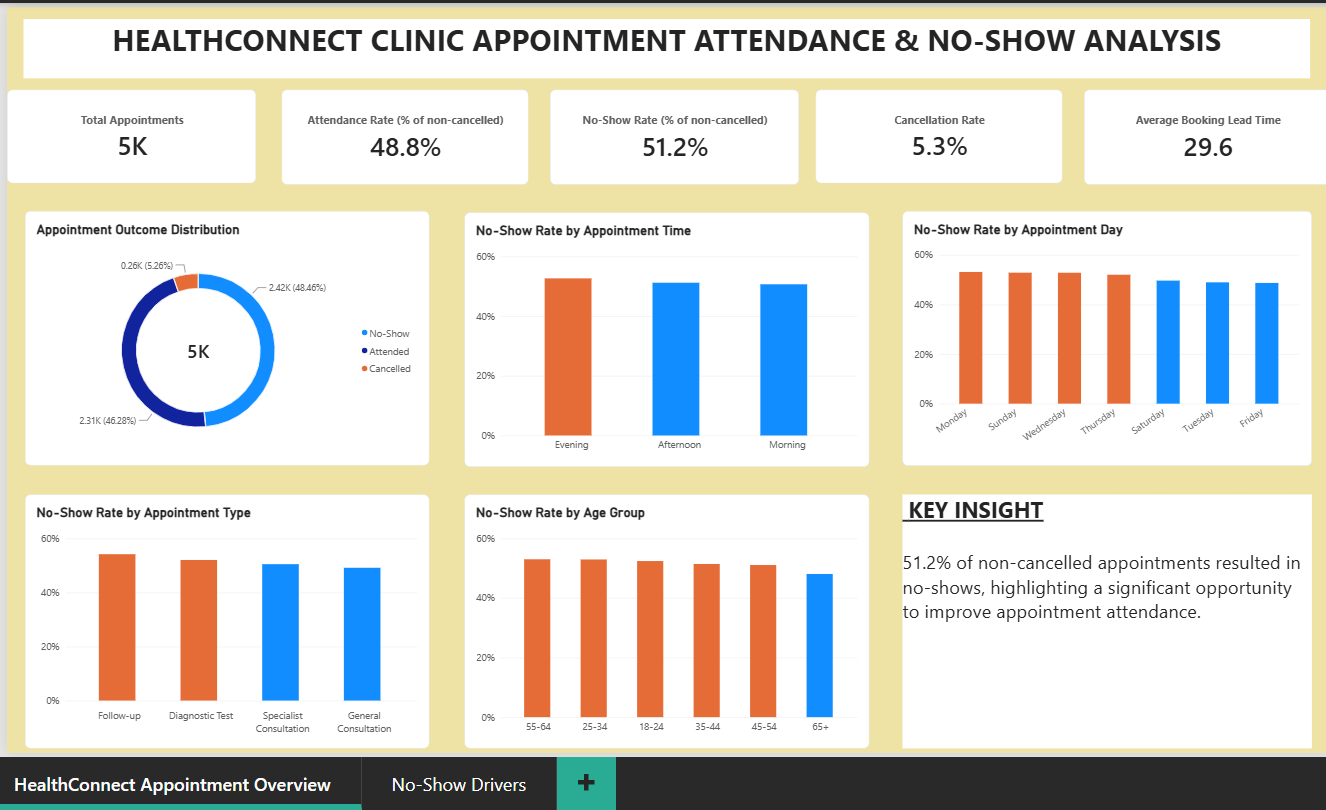

The page's visual inventory and layout, read from the dashboard file:
{"tool":"powerbi","page":{"name":"HealthConnect Appointment Overview","canvas":[1920,1080],"ordinal":0},"visuals":[{"type":"cardVisual","fields":{"Data":["HealthConnect_Appointment_Data_Raw.Total Appointments"]},"box":[0,120.4,361.1,136.3],"z":0},{"type":"cardVisual","fields":{"Data":["HealthConnect_Appointment_Data_Raw.Cancellation Rate"]},"box":[1172,120.4,358.9,136.3],"z":1000},{"type":"cardVisual","fields":{"Data":["HealthConnect_Appointment_Data_Raw.Attendance Rate"]},"box":[397.5,120.4,358.9,138.5],"z":2000},{"type":"cardVisual","fields":{"Data":["HealthConnect_Appointment_Data_Raw.Average Booking Lead Time"]},"box":[1560.4,120.4,358.9,138.5],"z":3000},{"type":"cardVisual","fields":{"Data":["HealthConnect_Appointment_Data_Raw.No-Show Rate"]},"box":[785.9,120.4,361.1,138.5],"z":4000},{"type":"donutChart","title":"Appointment Outcome Distribution","fields":{"Category":["HealthConnect_Appointment_Data_Raw.appointment_outcome"],"Y":["CountNonNull(HealthConnect_Appointment_Data_Raw.appointment_id)"]},"box":[26.1,296.1,586,368.5],"z":5000},{"type":"clusteredColumnChart","title":"No-Show Rate by Appointment Type","fields":{"Category":["HealthConnect_Appointment_Data_Raw.appointment_type"],"Y":["HealthConnect_Appointment_Data_Raw.No-Show Rate"]},"box":[25.5,705.8,586,368],"z":6000},{"type":"clusteredColumnChart","title":"No-Show Rate by Appointment  Day","fields":{"Category":["HealthConnect_Appointment_Data_Raw.appointment_day"],"Y":["HealthConnect_Appointment_Data_Raw.No-Show Rate"]},"box":[1296.9,295.3,593,369.6],"z":7000},{"type":"clusteredColumnChart","title":"No-Show Rate by Appointment Time","fields":{"Category":["HealthConnect_Appointment_Data_Raw.appointment_time"],"Y":["HealthConnect_Appointment_Data_Raw.No-Show Rate"]},"box":[663.2,298.4,586.8,368.5],"z":8000},{"type":"clusteredColumnChart","title":"No-Show Rate by Age Group ","fields":{"Category":["HealthConnect_Appointment_Data_Raw.age_group"],"Y":["HealthConnect_Appointment_Data_Raw.No-Show Rate"]},"box":[663.2,705.8,586.8,368],"z":9000},{"type":"textbox","box":[25,18,1864.7,86.3],"z":10000},{"type":"textbox","box":[1297,706,593,368],"z":10001}]}

Visuals, with their boxes on the page's 1920x1080 design canvas (x1, y1, x2, y2). These are canvas units, not pixel positions in the 1326x810 screenshot, which may show the page scaled, cropped or inside an application window:
cardVisual - HealthConnect_Appointment_Data_Raw.Total Appointments: left=0, top=120, right=361, bottom=257
cardVisual - HealthConnect_Appointment_Data_Raw.Cancellation Rate: left=1172, top=120, right=1531, bottom=257
cardVisual - HealthConnect_Appointment_Data_Raw.Attendance Rate: left=398, top=120, right=756, bottom=259
cardVisual - HealthConnect_Appointment_Data_Raw.Average Booking Lead Time: left=1560, top=120, right=1919, bottom=259
cardVisual - HealthConnect_Appointment_Data_Raw.No-Show Rate: left=786, top=120, right=1147, bottom=259
"Appointment Outcome Distribution" donutChart: left=26, top=296, right=612, bottom=665
"No-Show Rate by Appointment Type" clusteredColumnChart: left=26, top=706, right=612, bottom=1074
"No-Show Rate by Appointment  Day" clusteredColumnChart: left=1297, top=295, right=1890, bottom=665
"No-Show Rate by Appointment Time" clusteredColumnChart: left=663, top=298, right=1250, bottom=667
"No-Show Rate by Age Group " clusteredColumnChart: left=663, top=706, right=1250, bottom=1074
textbox: left=25, top=18, right=1890, bottom=104
textbox: left=1297, top=706, right=1890, bottom=1074
